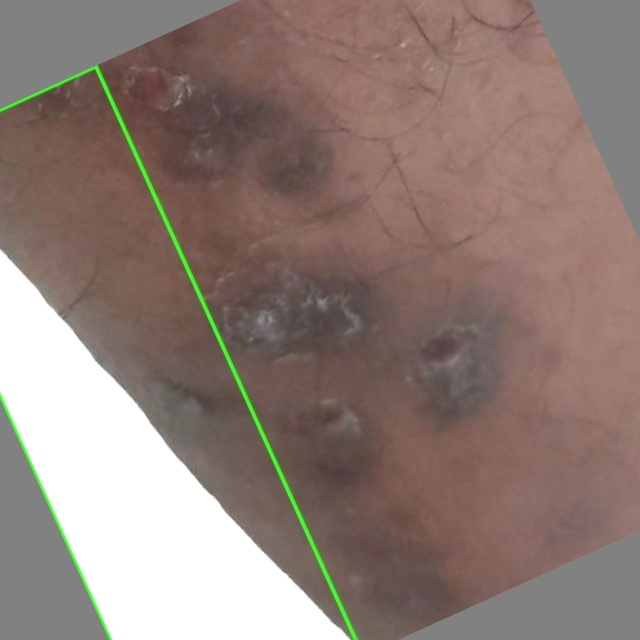Eczema: (0, 66, 355, 639)
